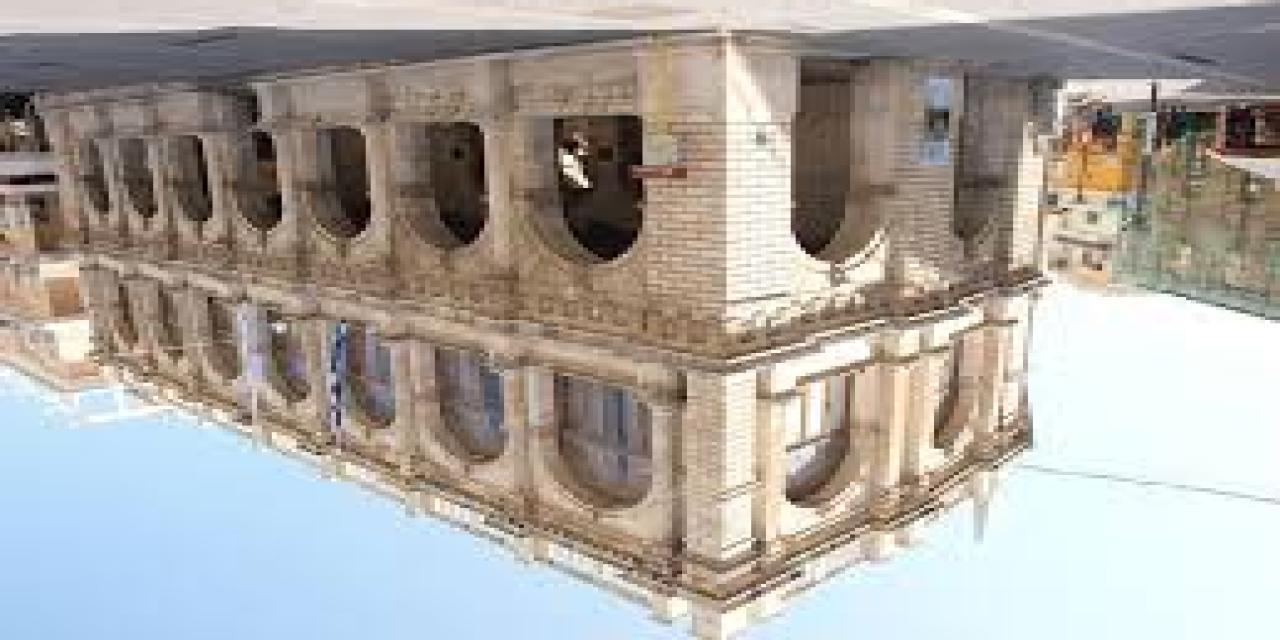Loggia: (31, 34, 1052, 640)
